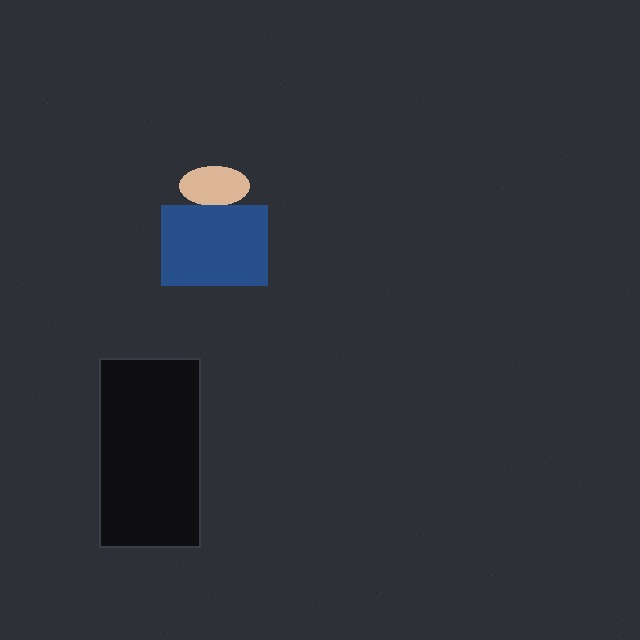person: (109, 166, 320, 285)
phone: (99, 358, 302, 547)
